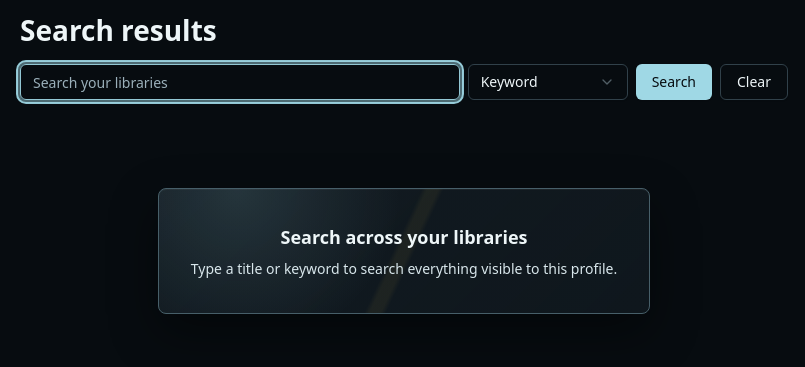
SearchPage mode exposure › surfaces the keyword-fallback notice when semantic degrades
// Select semantic, then search.
Step 1. Click the dropdown named "Search mode" → (548, 82), box top-left (468, 64), bottom-right (628, 100)
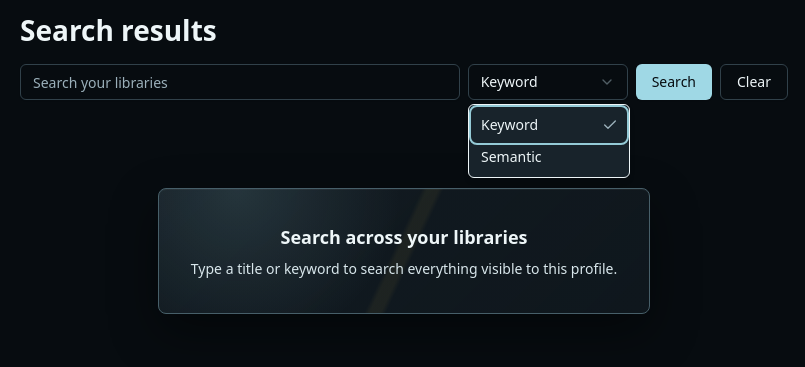
Step 2. Click the option "Semantic" → (511, 156), box top-left (481, 147), bottom-right (542, 166)
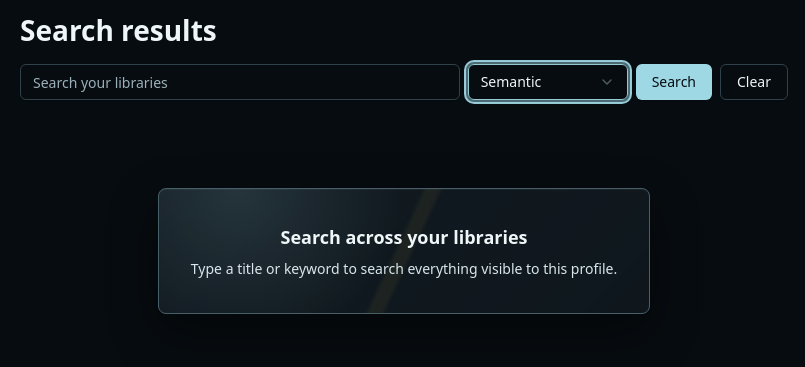
Step 3. Type "x" into the search field labelled "Search" → (240, 82), box top-left (20, 64), bottom-right (460, 100)
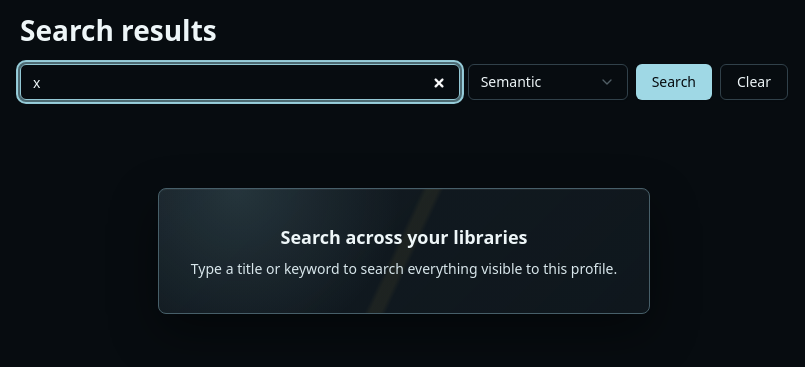
Step 4. Click the button "Search" → (674, 82), box top-left (636, 64), bottom-right (712, 100)
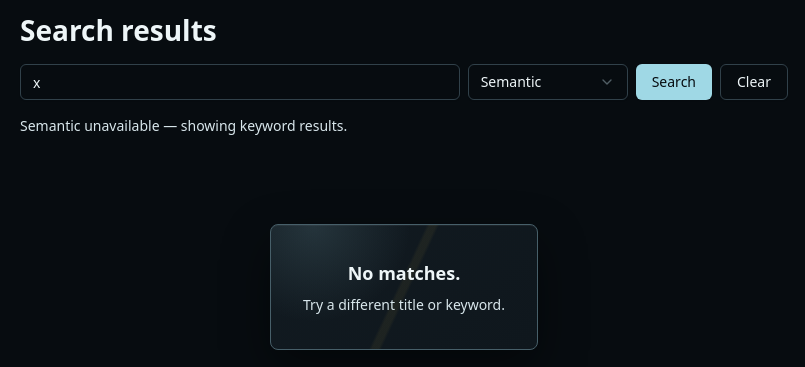
Result: the text "Semantic unavailable — showing keyword results." is shown at top-left (20, 116), bottom-right (347, 135)
